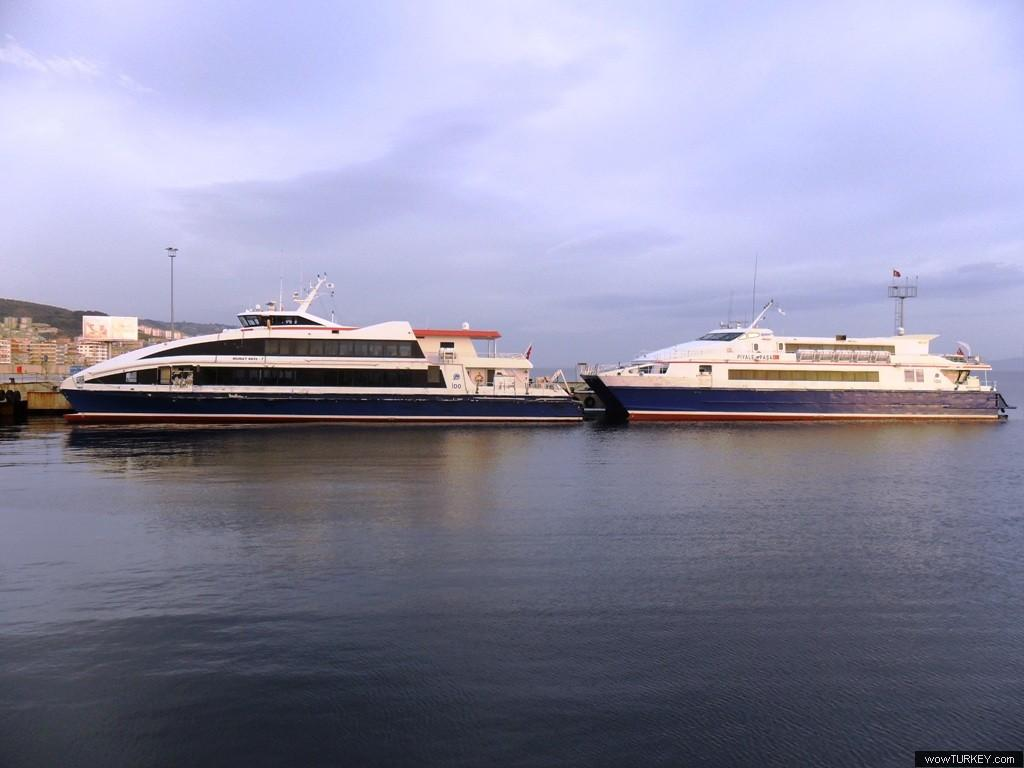PassengerShip: (34, 250, 590, 428), (578, 260, 1018, 428)
